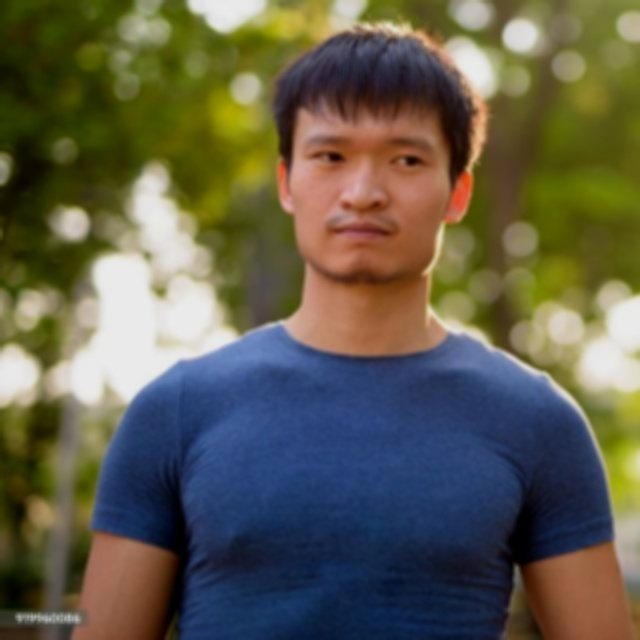Sin_Casco_Mascarrilla: (266, 19, 488, 281)
Sin_Chaleco: (156, 318, 570, 640)
